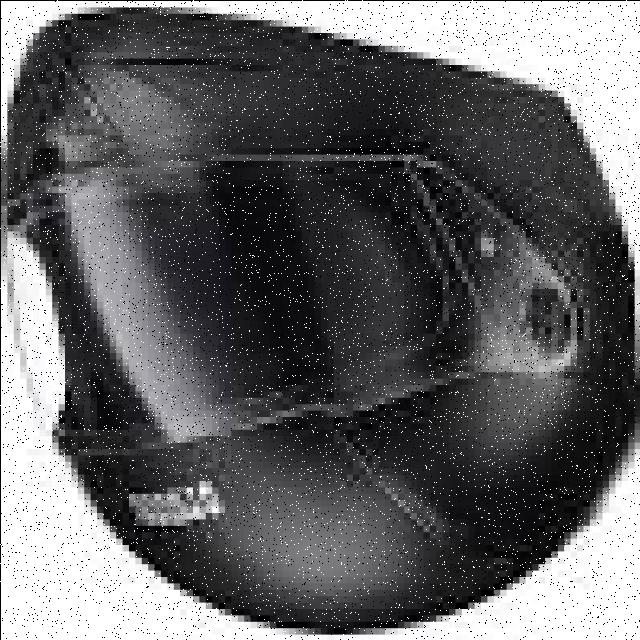Helmet: (12, 9, 638, 640)
